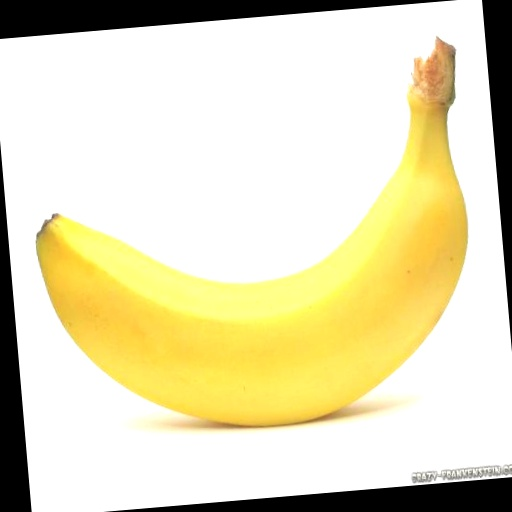fruit: (37, 38, 467, 425)
